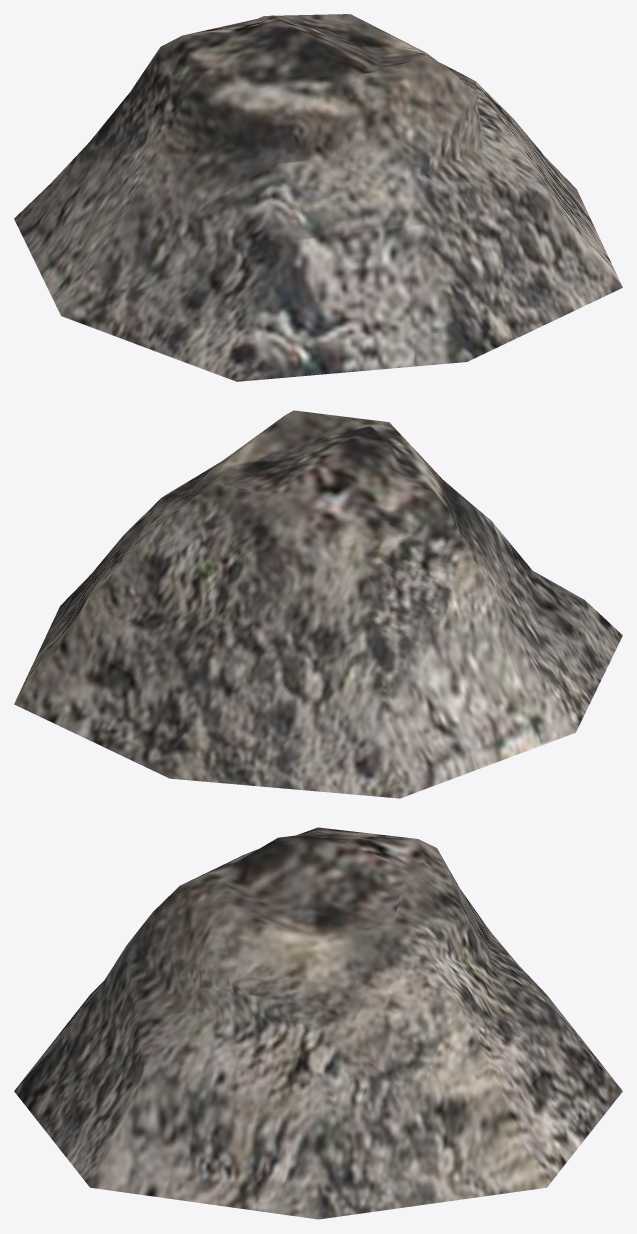
Rendered from soil_2.fbx.
The picture shows the model from 3 angles, top to bottom: view 1: azimuth 30°, elevation 25°; view 2: azimuth 150°, elevation 25°; view 3: azimuth 270°, elevation 25°; orthographic projection. The views are drawn at different scales.
Parts seen in each view (by area): view 1: Plane_002; view 2: Plane_002; view 3: Plane_002.
Part boxes in pixels (bbox=[...]): Plane_002: bbox=[14, 14, 622, 381]; Plane_002: bbox=[14, 410, 622, 798]; Plane_002: bbox=[14, 827, 622, 1219].
Bounding box in the file's own units: 62.22 × 26.91 × 62.1.
